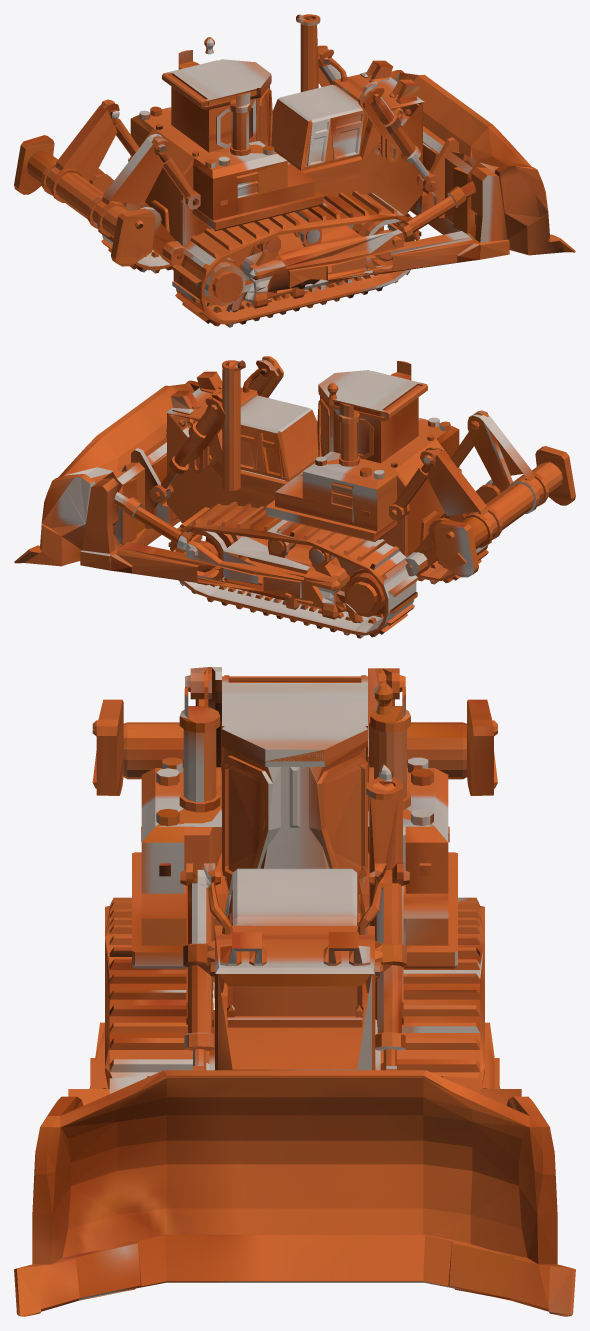
The model's file is bulldozer.obj.
The picture shows the model from 3 angles, top to bottom: view 1: azimuth 30°, elevation 25°; view 2: azimuth 150°, elevation 25°; view 3: azimuth 270°, elevation 25°; orthographic projection. The views are drawn at different scales.
Parts seen in each view (by area): view 1: texture_pbr_v128; view 2: texture_pbr_v128; view 3: texture_pbr_v128.
Boxes of the visible parts, left/top/right/bottom form: texture_pbr_v128: left=14, top=14, right=575, bottom=327; texture_pbr_v128: left=14, top=356, right=575, bottom=638; texture_pbr_v128: left=14, top=667, right=575, bottom=1316.
Bounding box in the file's own units: 0.9738 × 0.4794 × 0.5815.
